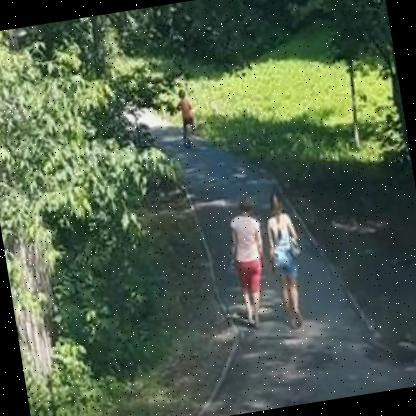person: (215, 190, 283, 336), (256, 190, 315, 332), (169, 82, 205, 156)
